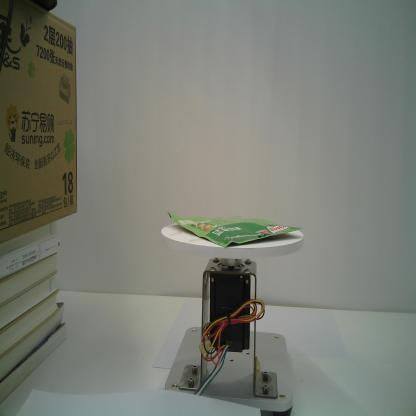Seasoner: (167, 210, 304, 248)
